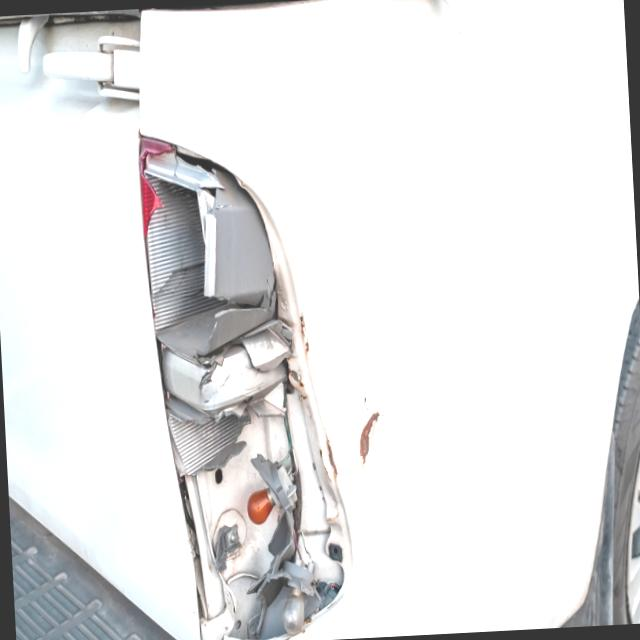Cabossage: (308, 193, 417, 503), (295, 495, 441, 640)
Phare abime: (114, 117, 353, 640)
Rayure: (349, 380, 388, 504)
